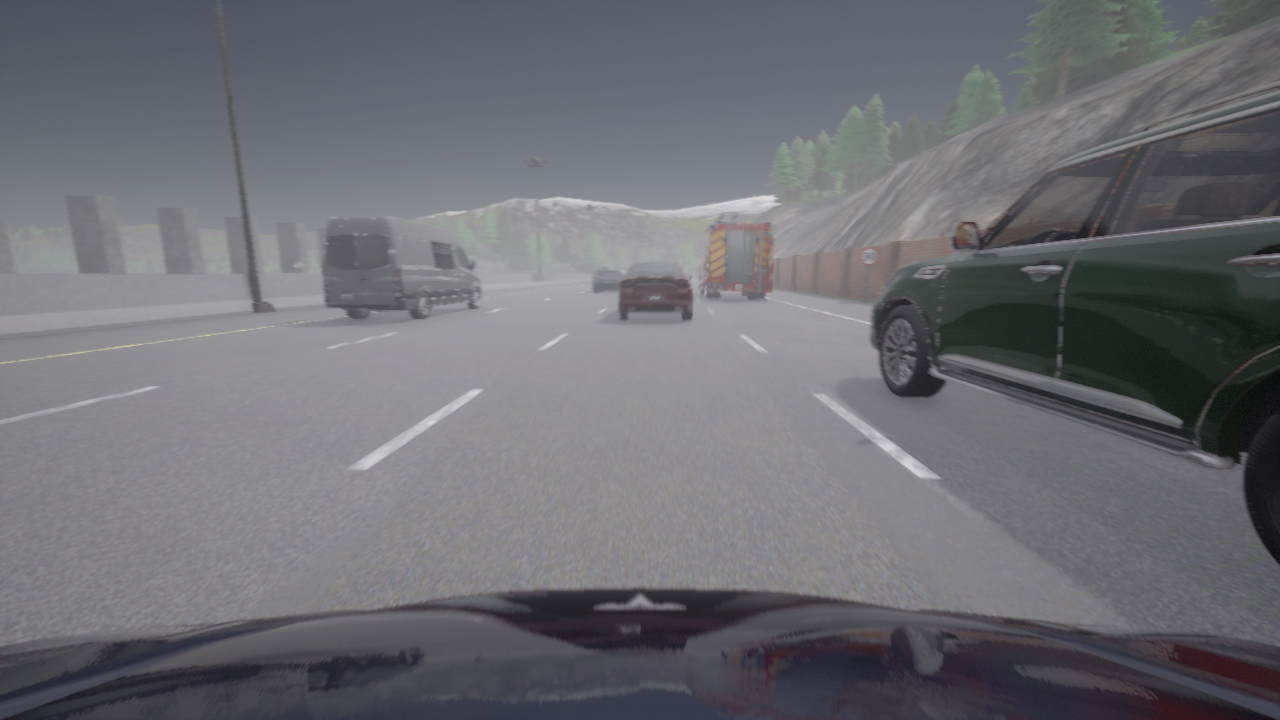cyclist: (870, 81, 1279, 565), (0, 588, 1279, 719), (322, 216, 482, 319), (694, 212, 773, 298), (619, 261, 692, 319), (593, 271, 622, 291), (593, 267, 609, 280)
